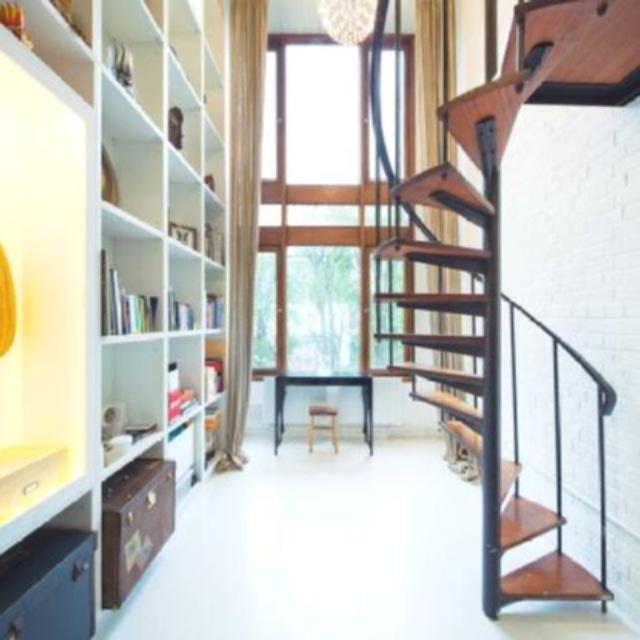stair: (372, 0, 640, 623)
